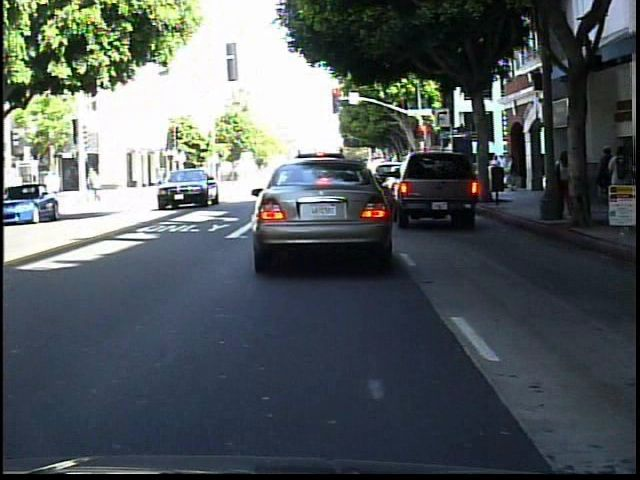person: (607, 142, 635, 218), (551, 145, 577, 219), (596, 147, 615, 211), (86, 162, 107, 205)
